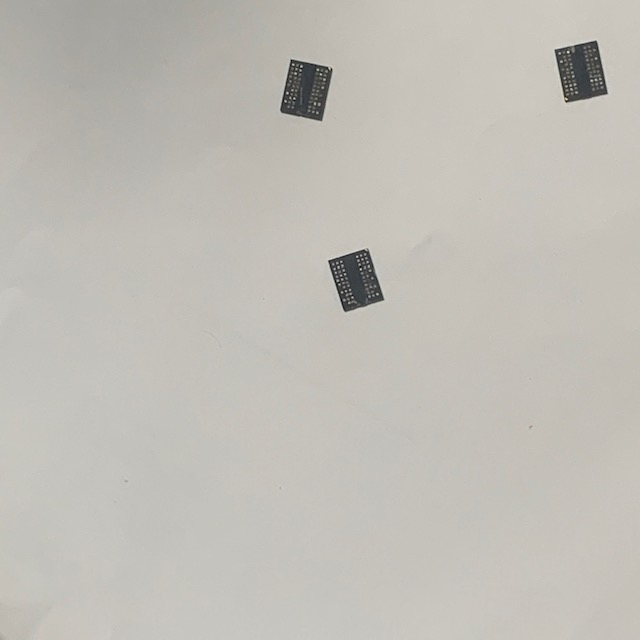IC: (326, 244, 387, 316), (276, 57, 337, 123), (552, 38, 611, 104)
